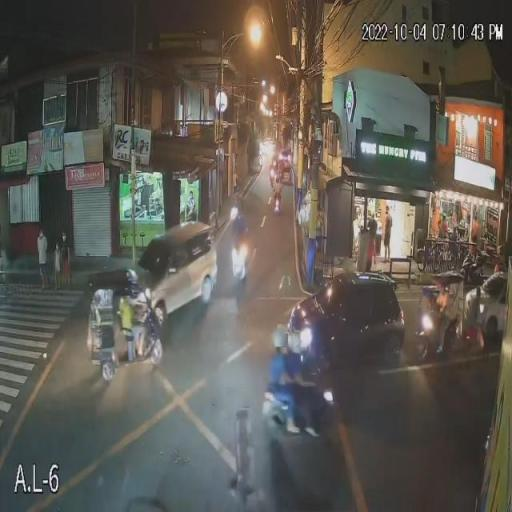helmet: (267, 316, 293, 353), (286, 329, 308, 357)
motorcycle: (250, 374, 346, 439)
rider: (256, 350, 306, 437), (288, 351, 320, 439)
